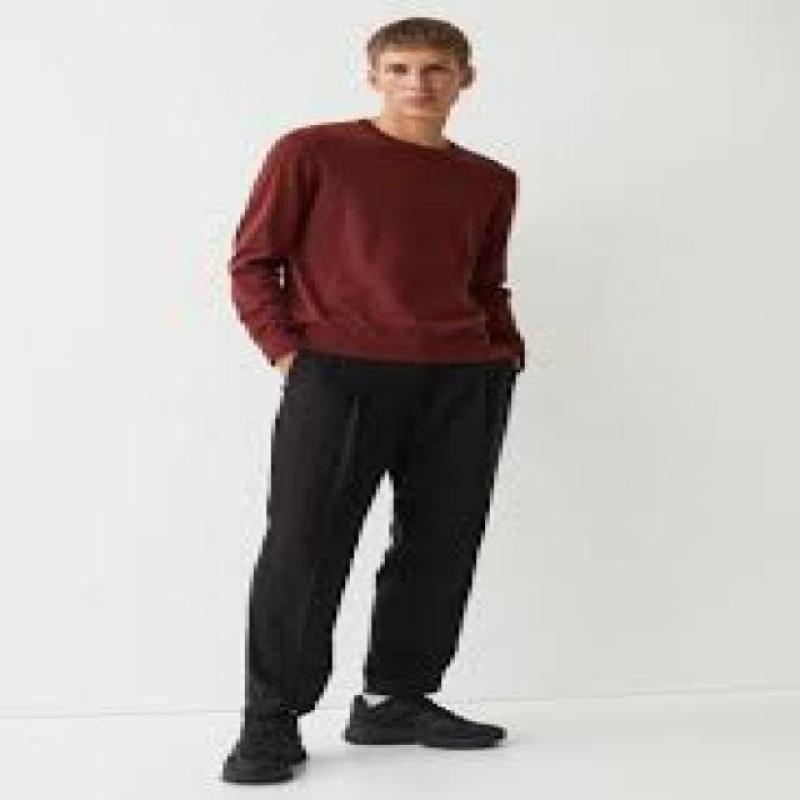sweater: (226, 119, 525, 366)
trousers: (243, 355, 519, 710)
